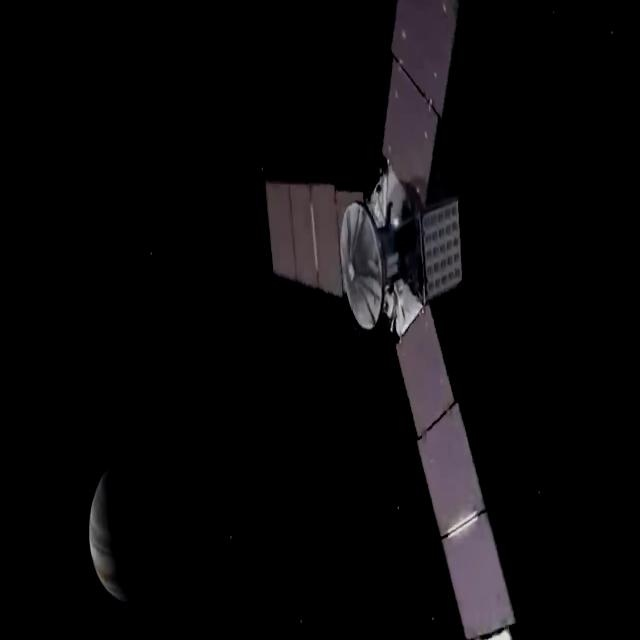satellite: (256, 0, 532, 640)
